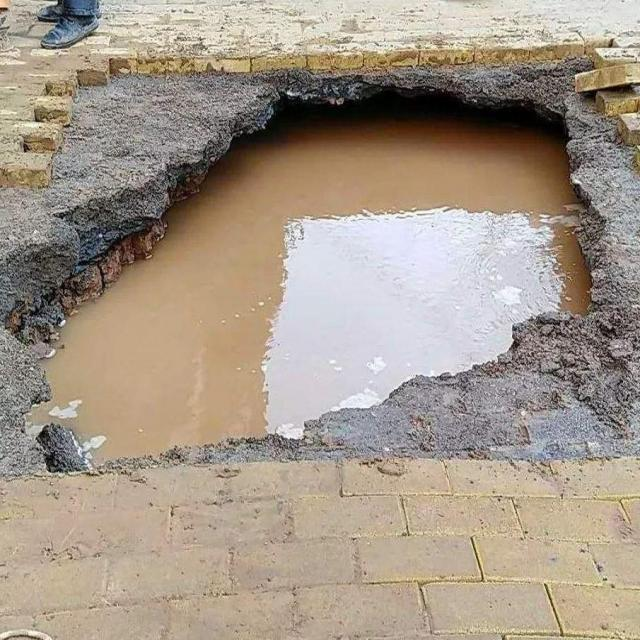Pothole: (1, 72, 604, 475)
